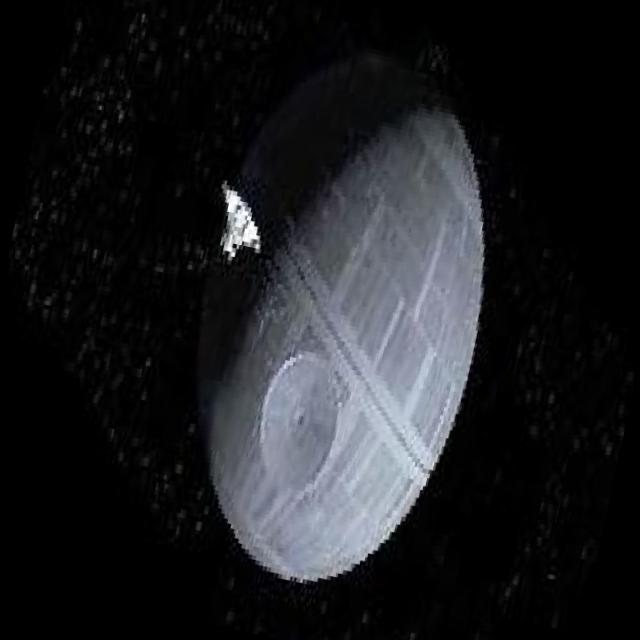Death Star: (127, 18, 532, 614)
